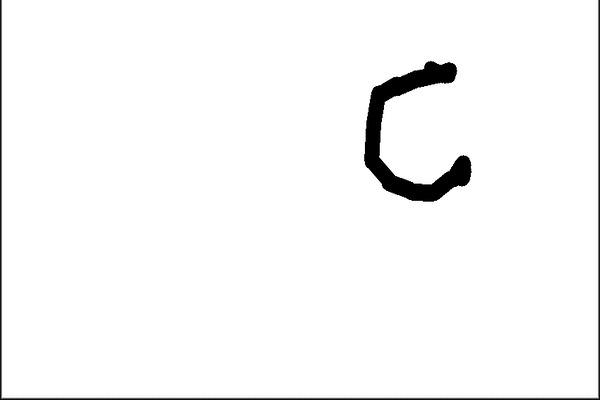C: (356, 56, 483, 206)
